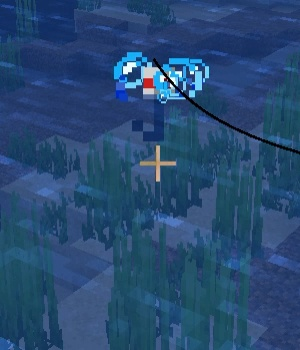up: (130, 65, 176, 144)
